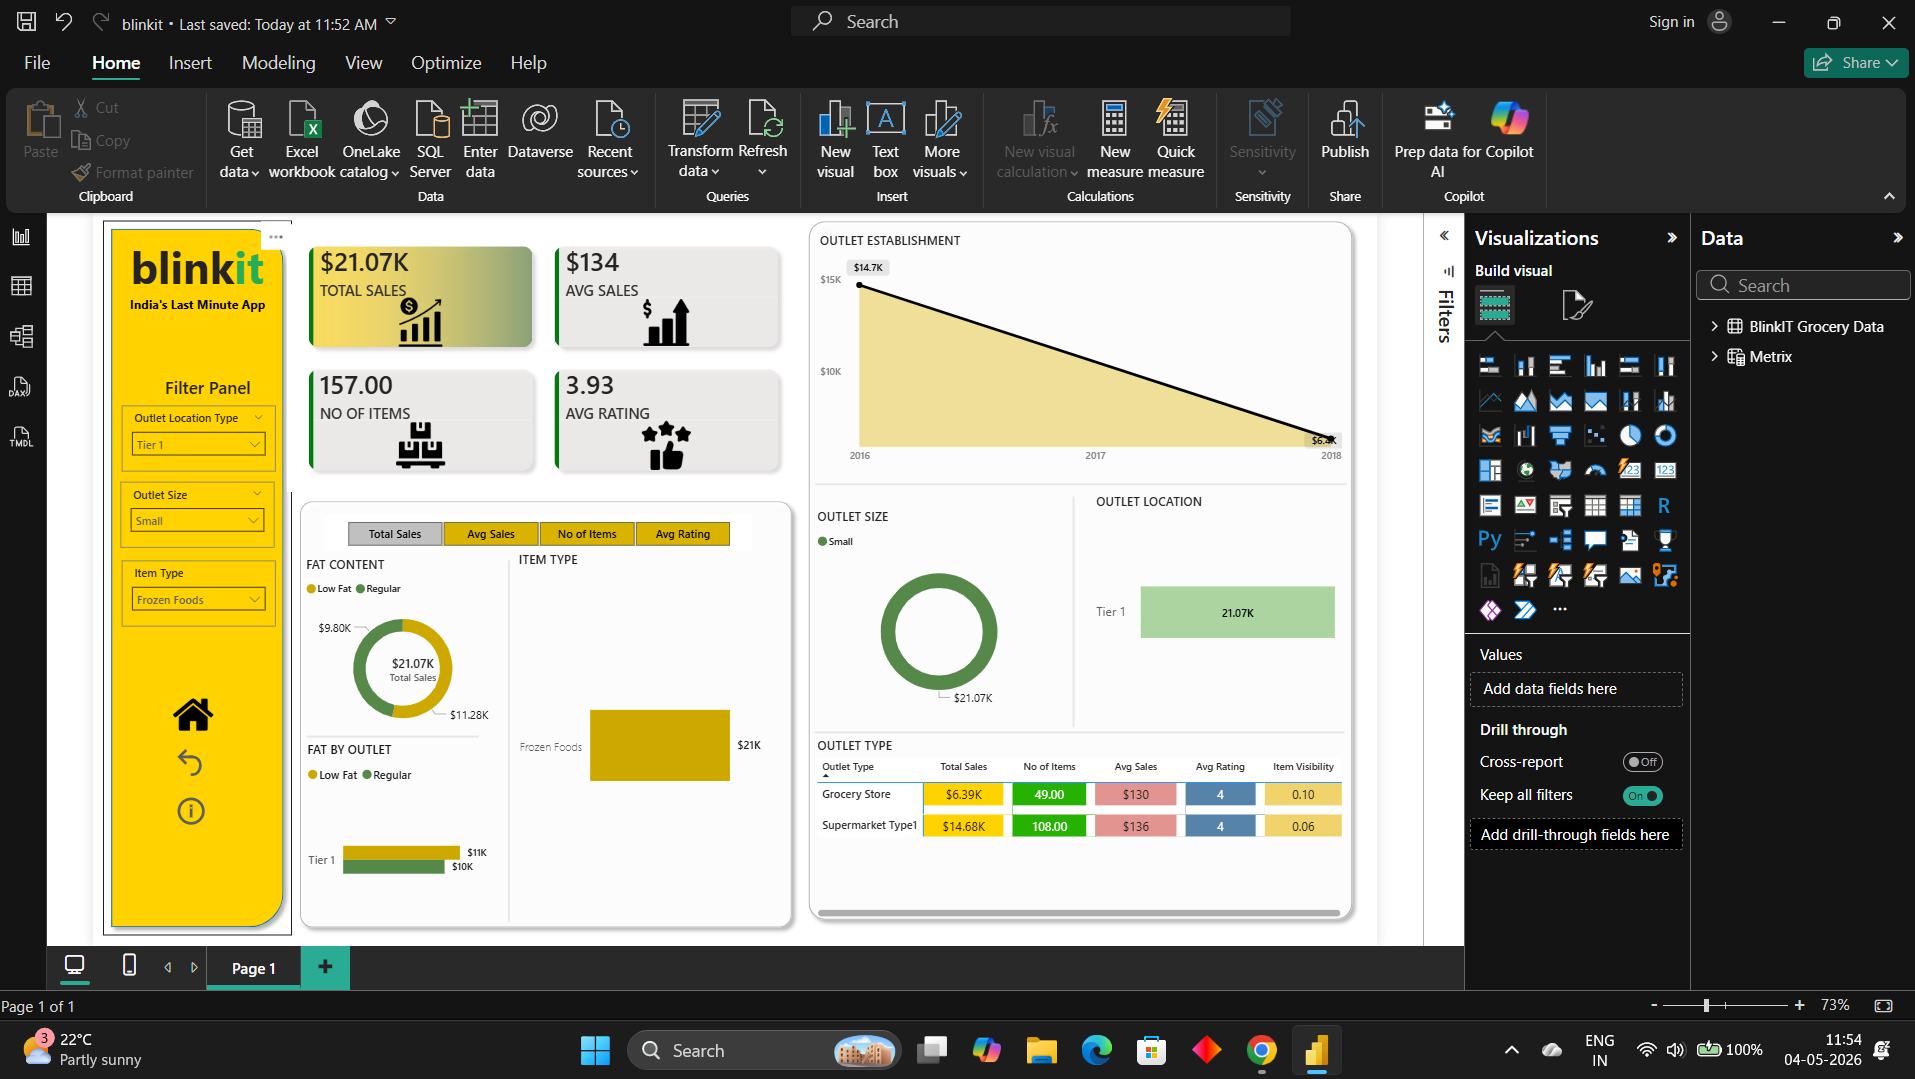

This screenshot's page, from the dashboard's own definition file:
{"tool":"powerbi","page":{"name":"Page 1","canvas":[1400,800],"ordinal":0},"visuals":[{"type":"shape","box":[10.9,8.2,205.9,779.8],"z":0},{"type":"textbox","box":[262.9,688.6,255.7,100],"z":1000},{"type":"textbox","box":[262.9,580,255.7,128.6],"z":2000},{"type":"textbox","box":[24.3,20,178.6,75.7],"z":3000},{"type":"textbox","box":[31.4,85.7,165.7,40],"z":4000},{"type":"cardVisual","fields":{"Data":["BlinkIT Grocery Data.Total Sales","BlinkIT Grocery Data.Avg Sales","BlinkIT Grocery Data.No of Items","BlinkIT Grocery Data.Avg Rating"]},"box":[211.3,12.3,560.3,293.1],"z":5000},{"type":"shape","box":[217.1,305.7,554.3,482.9],"z":6000},{"type":"donutChart","title":"FAT CONTENT","fields":{"Y":["BlinkIT Grocery Data.Total Sales"],"Category":["BlinkIT Grocery Data.Item Fat Content"]},"box":[227.7,373.6,220.9,201.8],"z":7000},{"type":"slicer","fields":{"Values":["Metrix.Metrix"]},"box":[251.7,330,466.7,38.3],"z":8000},{"type":"cardVisual","fields":{"Data":["BlinkIT Grocery Data.Total Sales"]},"box":[305.4,470.4,87.3,53.2],"z":9000},{"type":"clusteredBarChart","title":"FAT BY OUTLET","fields":{"Y":["BlinkIT Grocery Data.Total Sales"],"Category":["BlinkIT Grocery Data.Outlet Location Type"],"Series":["BlinkIT Grocery Data.Item Fat Content"]},"box":[229,575.3,219.5,208.6],"z":10000},{"type":"shape","box":[232.9,561.4,187.1,18.6],"z":11000},{"type":"shape","box":[447.1,378.6,12.9,394.3],"z":12000},{"type":"barChart","title":"ITEM TYPE","fields":{"Y":["BlinkIT Grocery Data.Total Sales"],"Category":["BlinkIT Grocery Data.Item Type"]},"box":[460,368.6,292.9,404.3],"z":13000},{"type":"shape","box":[771.6,0,610.8,779.8],"z":14000},{"type":"lineChart","title":"OUTLET ESTABLISHMENT","fields":{"Y":["BlinkIT Grocery Data.Total Sales"],"Category":["BlinkIT Grocery Data.Outlet Establishment Year"]},"box":[788,20.5,579.4,261.8],"z":15000},{"type":"shape","box":[788,286.3,579.4,19.1],"z":16000},{"type":"donutChart","title":"OUTLET SIZE","fields":{"Y":["BlinkIT Grocery Data.Total Sales"],"Category":["BlinkIT Grocery Data.Outlet Size"]},"box":[785.3,321.7,275.4,225],"z":17000},{"type":"shape","box":[1063.4,309.5,12.3,250.9],"z":18000},{"type":"funnel","title":"OUTLET LOCATION","fields":{"Y":["Sum(BlinkIT Grocery Data.Sales)"],"Category":["BlinkIT Grocery Data.Outlet Location Type"]},"box":[1089.3,305.4,275.4,241.3],"z":19000},{"type":"shape","box":[786.6,557.6,578.1,17.7],"z":20000},{"type":"pivotTable","title":"OUTLET TYPE","fields":{"Values":["BlinkIT Grocery Data.Total Sales","BlinkIT Grocery Data.No of Items","BlinkIT Grocery Data.Avg Sales","BlinkIT Grocery Data.Avg Rating","Avg(BlinkIT Grocery Data.Item Visibility)"],"Rows":["BlinkIT Grocery Data.Outlet Type"]},"box":[785.3,571.2,582.1,201.8],"z":21000},{"type":"slicer","fields":{"Values":["BlinkIT Grocery Data.Outlet Location Type"]},"box":[31.4,210,167.7,72.3],"z":22000},{"type":"slicer","fields":{"Values":["BlinkIT Grocery Data.Outlet Size"]},"box":[30,293.1,167.7,72.3],"z":23000},{"type":"slicer","fields":{"Values":["BlinkIT Grocery Data.Item Type"]},"box":[31.4,379,167.7,72.3],"z":24000},{"type":"textbox","box":[73.6,173.1,113.2,36.8],"z":25000},{"type":"actionButton","box":[85.2,579.8,45.7,39.6],"z":26000},{"type":"image","box":[86.7,523.5,44.1,47.2],"z":27000},{"type":"actionButton","box":[86.7,633,44.1,39.6],"z":28000}]}

Visuals, with their boxes on the page's 1400x800 design canvas (x1, y1, x2, y2). These are canvas units, not pixel positions in the 1915x1079 screenshot, which may show the page scaled, cropped or inside an application window:
shape: [x1=11, y1=8, x2=217, y2=788]
textbox: [x1=263, y1=689, x2=519, y2=789]
textbox: [x1=263, y1=580, x2=519, y2=709]
textbox: [x1=24, y1=20, x2=203, y2=96]
textbox: [x1=31, y1=86, x2=197, y2=126]
cardVisual - BlinkIT Grocery Data.Total Sales x BlinkIT Grocery Data.Avg Sales: [x1=211, y1=12, x2=772, y2=305]
shape: [x1=217, y1=306, x2=771, y2=789]
"FAT CONTENT" donutChart: [x1=228, y1=374, x2=449, y2=575]
slicer - Metrix.Metrix: [x1=252, y1=330, x2=718, y2=368]
cardVisual - BlinkIT Grocery Data.Total Sales: [x1=305, y1=470, x2=393, y2=524]
"FAT BY OUTLET" clusteredBarChart: [x1=229, y1=575, x2=448, y2=784]
shape: [x1=233, y1=561, x2=420, y2=580]
shape: [x1=447, y1=379, x2=460, y2=773]
"ITEM TYPE" barChart: [x1=460, y1=369, x2=753, y2=773]
shape: [x1=772, y1=0, x2=1382, y2=780]
"OUTLET ESTABLISHMENT" lineChart: [x1=788, y1=20, x2=1367, y2=282]
shape: [x1=788, y1=286, x2=1367, y2=305]
"OUTLET SIZE" donutChart: [x1=785, y1=322, x2=1061, y2=547]
shape: [x1=1063, y1=310, x2=1076, y2=560]
"OUTLET LOCATION" funnel: [x1=1089, y1=305, x2=1365, y2=547]
shape: [x1=787, y1=558, x2=1365, y2=575]
"OUTLET TYPE" pivotTable: [x1=785, y1=571, x2=1367, y2=773]
slicer - BlinkIT Grocery Data.Outlet Location Type: [x1=31, y1=210, x2=199, y2=282]
slicer - BlinkIT Grocery Data.Outlet Size: [x1=30, y1=293, x2=198, y2=365]
slicer - BlinkIT Grocery Data.Item Type: [x1=31, y1=379, x2=199, y2=451]
textbox: [x1=74, y1=173, x2=187, y2=210]
actionButton: [x1=85, y1=580, x2=131, y2=619]
image: [x1=87, y1=524, x2=131, y2=571]
actionButton: [x1=87, y1=633, x2=131, y2=673]
